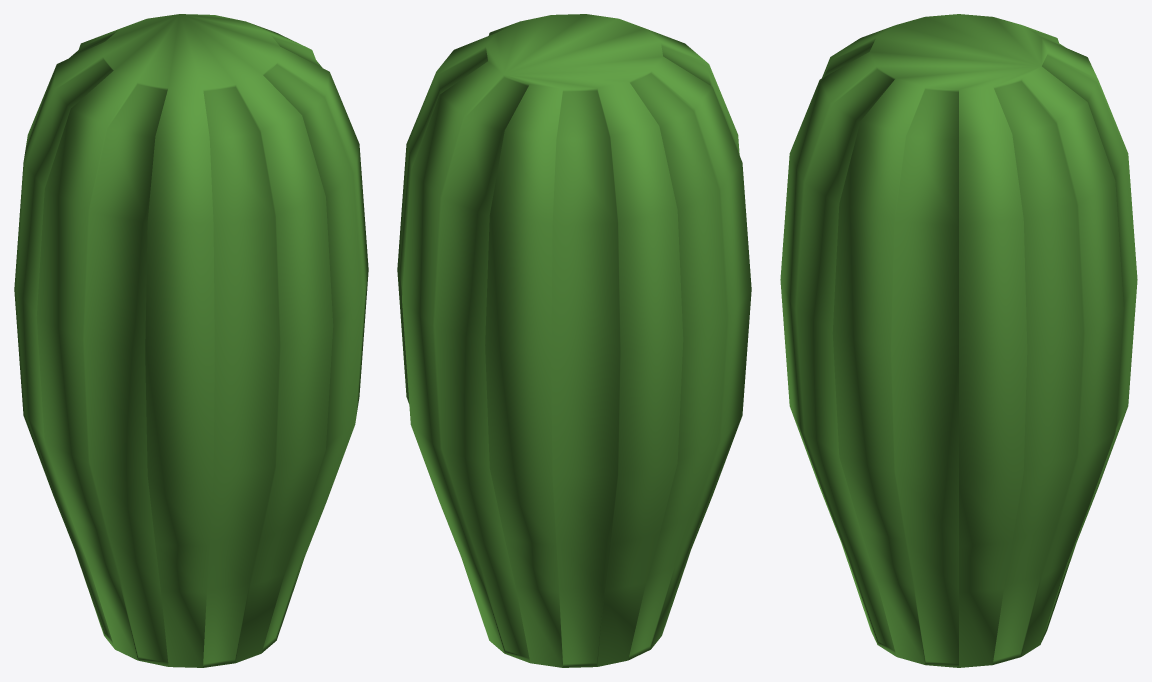
The model's file is Cactus_stage_00.fbx.
The picture shows the model from 3 angles, left to right: view 1: azimuth 30°, elevation 25°; view 2: azimuth 150°, elevation 25°; view 3: azimuth 270°, elevation 25°; orthographic projection.
Visible parts, largest first — view 1: stage_00; view 2: stage_00; view 3: stage_00.
Part boxes in pixels (x1=…): stage_00: x1=14, y1=14, x2=368, y2=667; stage_00: x1=397, y1=14, x2=751, y2=667; stage_00: x1=780, y1=14, x2=1137, y2=667.
Size of the model in its own units: 46.26 by 82.76 by 46.26.
